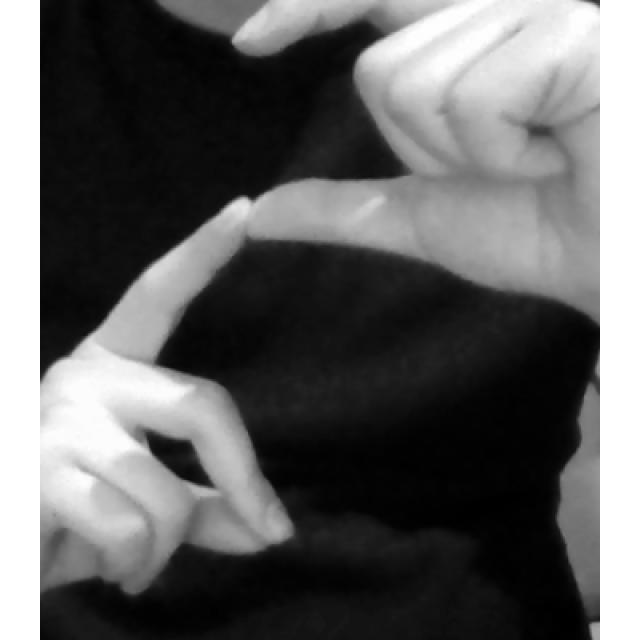S_: (39, 0, 598, 603)
